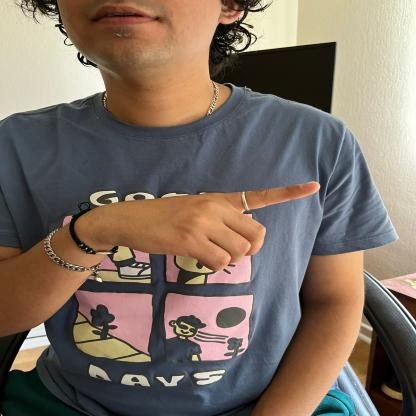S: (87, 178, 320, 274)
